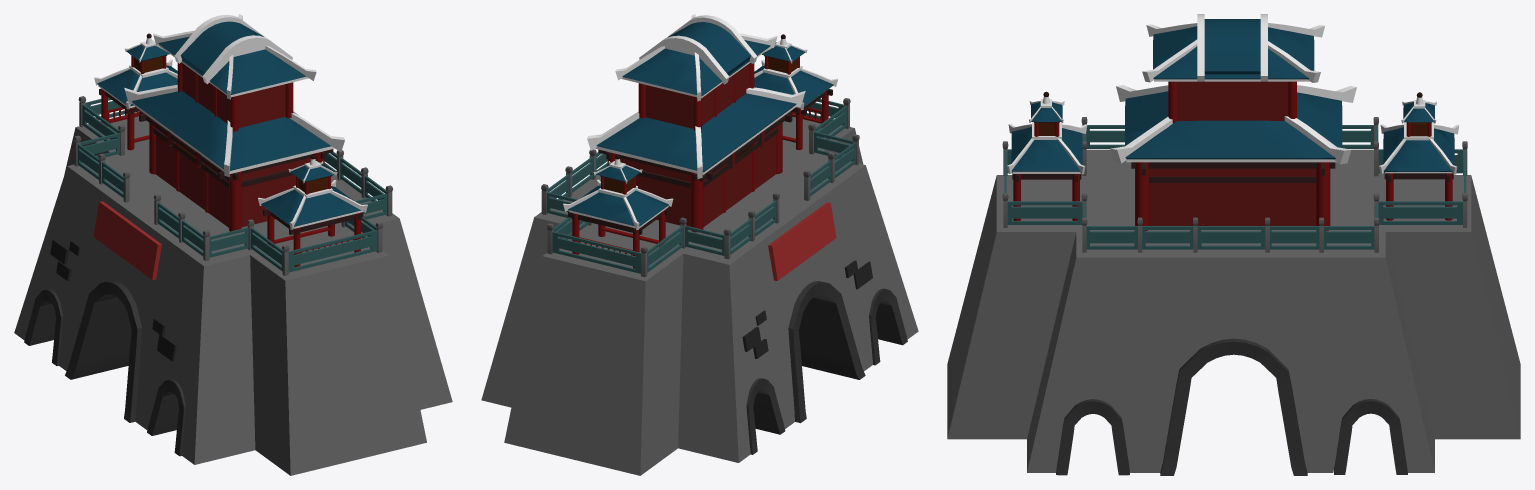
The model's file is cjibuild3.FBX.
The picture shows the model from 3 angles, left to right: view 1: azimuth 30°, elevation 25°; view 2: azimuth 150°, elevation 25°; view 3: azimuth 270°, elevation 25°; orthographic projection. The views are drawn at different scales.
Visible parts, largest first — view 1: Box001; view 2: Box001; view 3: Box001.
Part boxes in pixels (x1,y1,x2,y2): Box001: [14, 14, 452, 475]; Box001: [481, 14, 918, 475]; Box001: [947, 14, 1520, 475].
Size of the model in its own units: 82.47 by 99.24 by 134.
